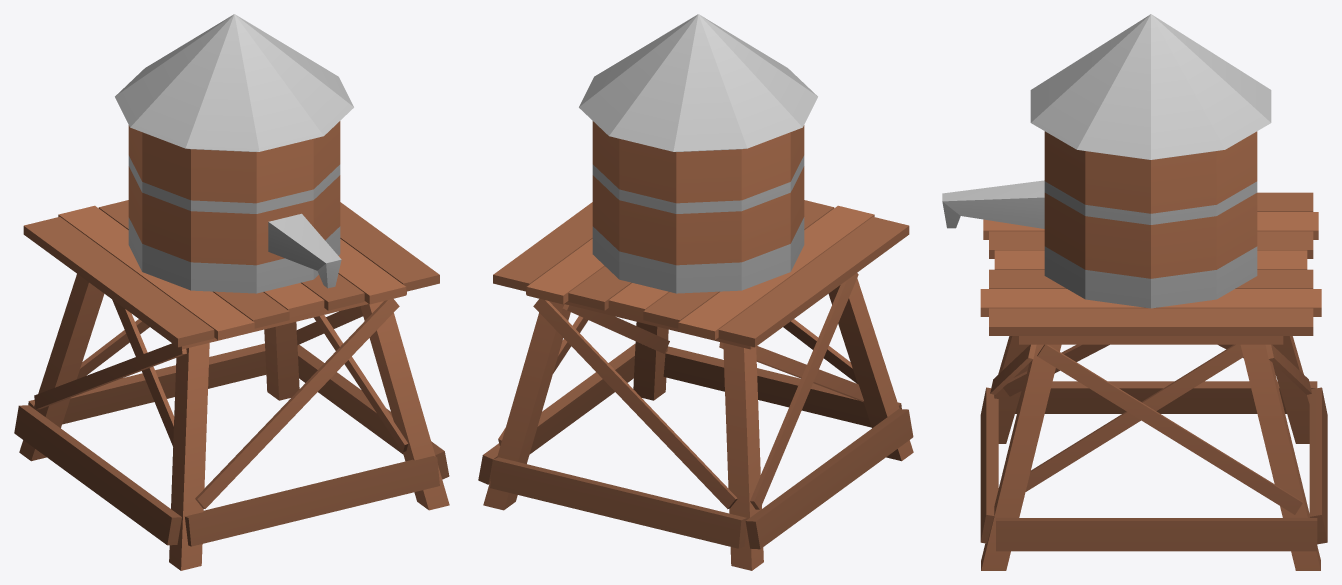
Rendered from water tank.fbx.
The picture shows the model from 3 angles, left to right: view 1: azimuth 30°, elevation 25°; view 2: azimuth 150°, elevation 25°; view 3: azimuth 270°, elevation 25°; orthographic projection. The views are drawn at different scales.
Visible parts, largest first — view 1: water tank; view 2: water tank; view 3: water tank.
Boxes of the visible parts, x1,y1,x2,y2 form: water tank: (14, 14, 449, 570); water tank: (478, 14, 913, 570); water tank: (942, 14, 1327, 570).
Bounding box in the file's own units: 522 × 822 × 588.
